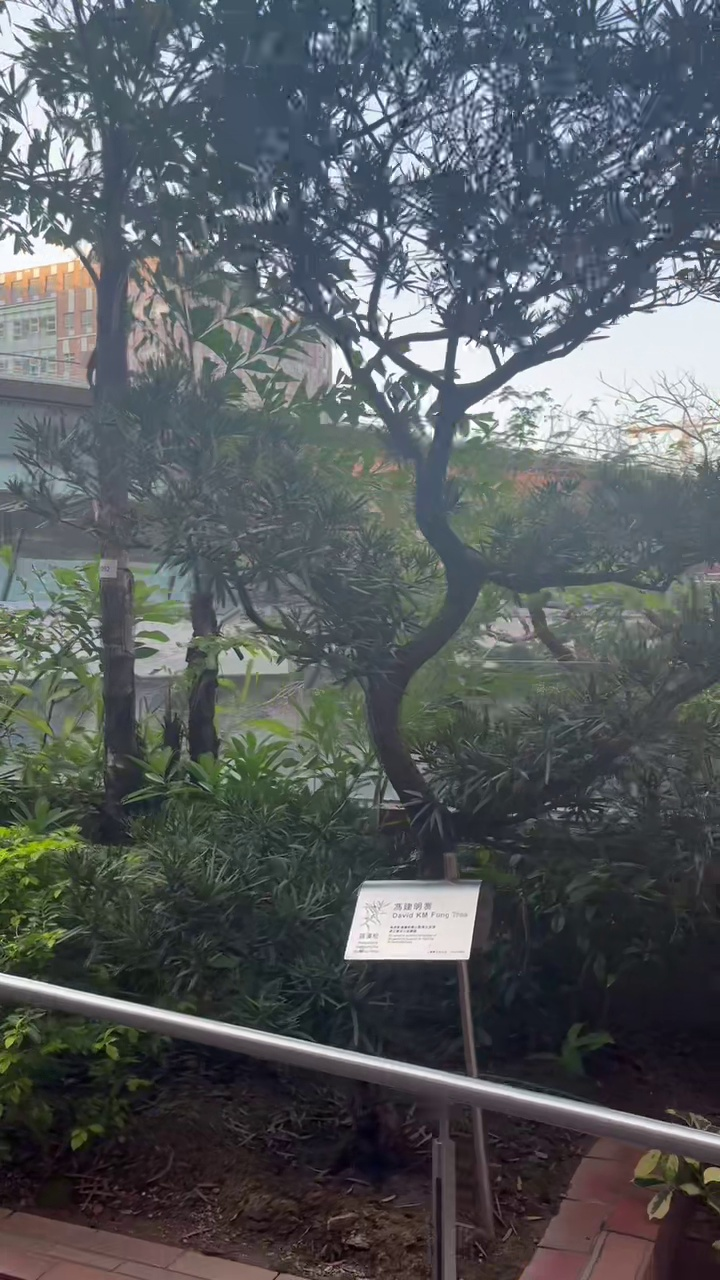Podocarpus macrophyllus: (193, 0, 719, 872)
